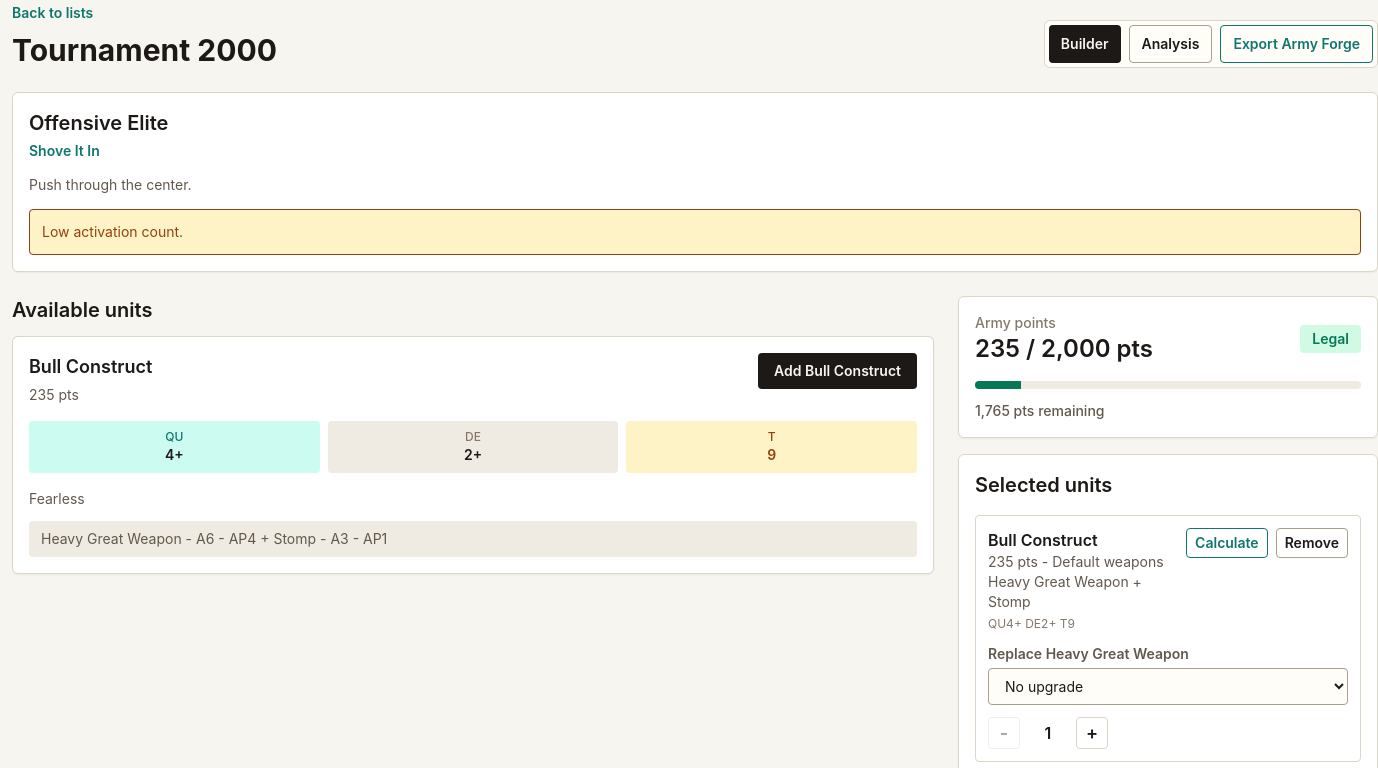
Test case: ListBuilderPage › updates native upgrade sections from the list row
Expected: the heading "Tournament 2000" is shown, [12,32,277,68]
Select "Twin Arm-Flamethrowers (+35 pts)" in the dropdown named "replace heavy great weapon for bull construct" at (1168, 686), box [988,668,1348,705]
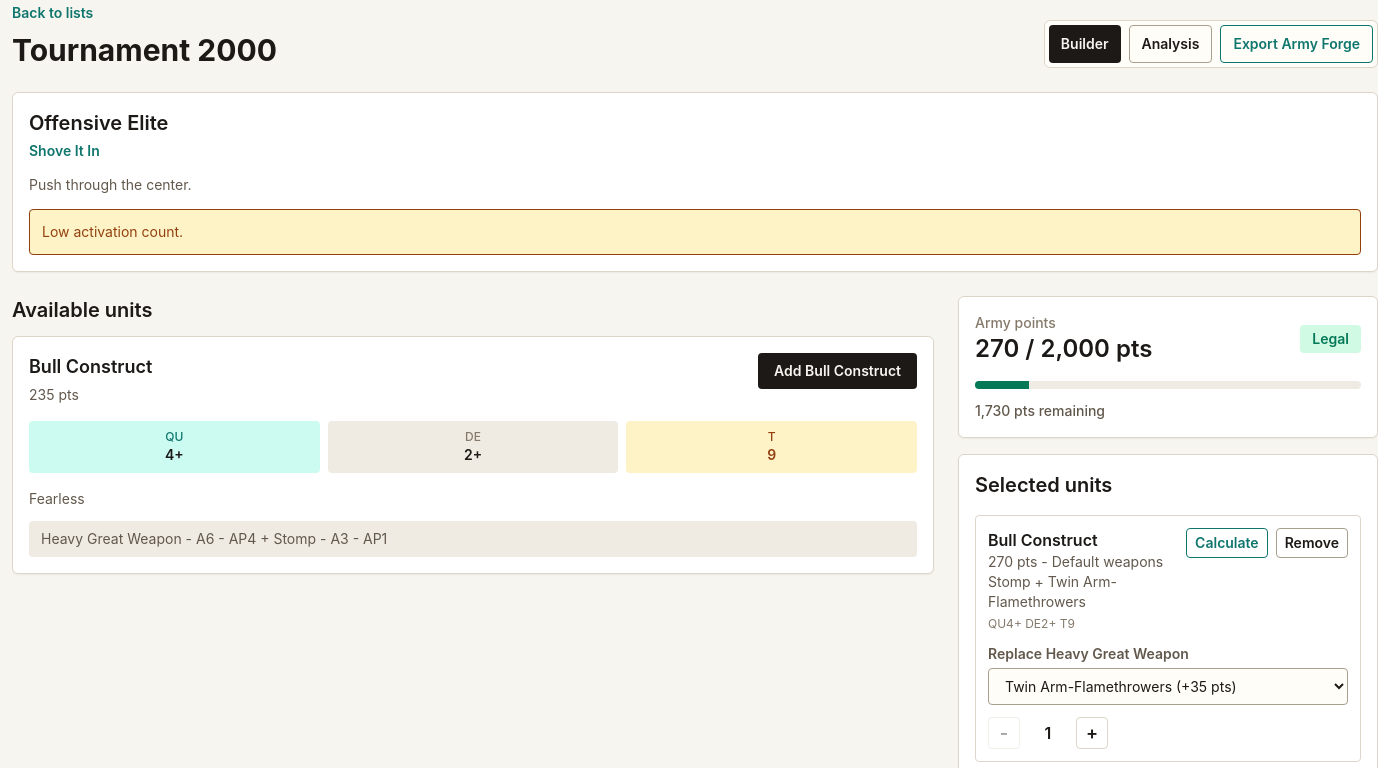
Expected: the text "270 / 2,000 pts" is shown, [975,333,1152,365]
